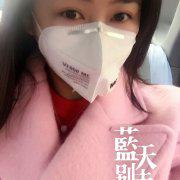OK: (45, 3, 147, 105)
